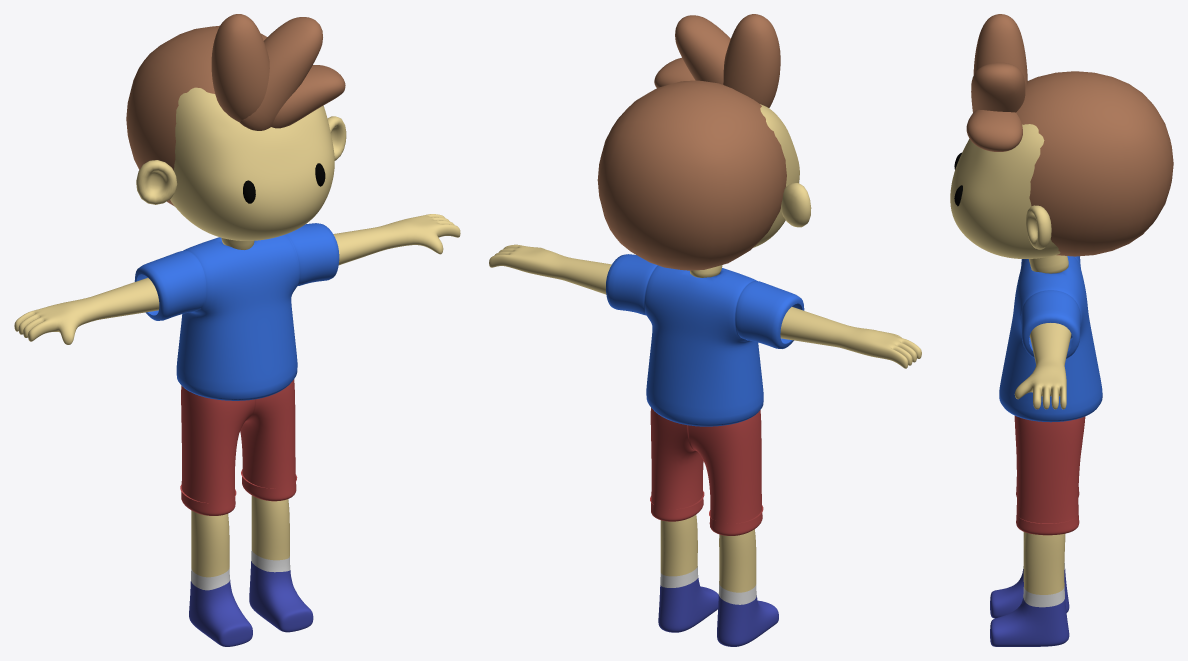
File: personaje niño.fbx
3 views of the same model, side by side, from view 1: azimuth 30°, elevation 25°; view 2: azimuth 150°, elevation 25°; view 3: azimuth 270°, elevation 25° (orthographic). The views are drawn at different scales.
Visible parts, largest first — view 1: Cube.005; view 2: Cube.005; view 3: Cube.005.
Part boxes in pixels (x1,y1,x2,y2): Cube.005: (14,14,460,646); Cube.005: (489,14,921,646); Cube.005: (950,14,1173,646).
Bounding box in the file's own units: 490 × 680 × 229.
